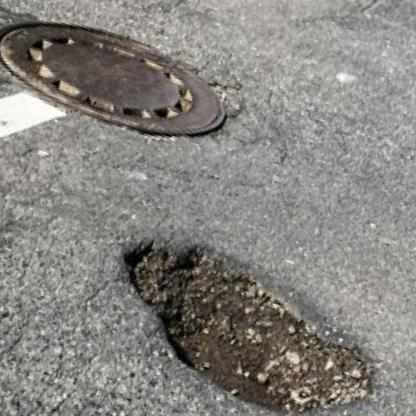pothole: (85, 224, 397, 416)
